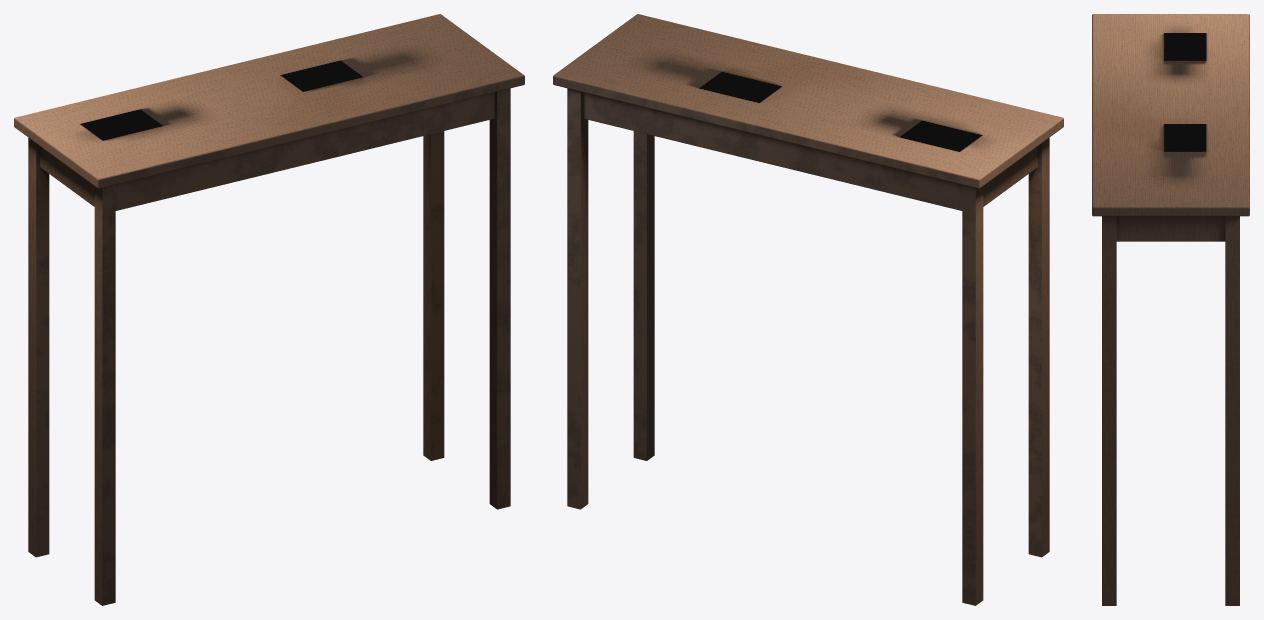
File: 815_hook.glb
3 renders of one model, left to right at view 1: azimuth 30°, elevation 25°; view 2: azimuth 150°, elevation 25°; view 3: azimuth 270°, elevation 25°, orthographic. The views are drawn at different scales.
Visible parts, largest first — view 1: Table; view 2: Table; view 3: Table.
Part boxes in pixels (x1,y1,x2,y2): Table: [14, 14, 524, 605]; Table: [553, 14, 1063, 605]; Table: [1092, 14, 1249, 605].
Size of what is drawn, in the model's own units: 3.2 by 3.1 by 1.1.
Materials: 1 (1 with a texture image).
